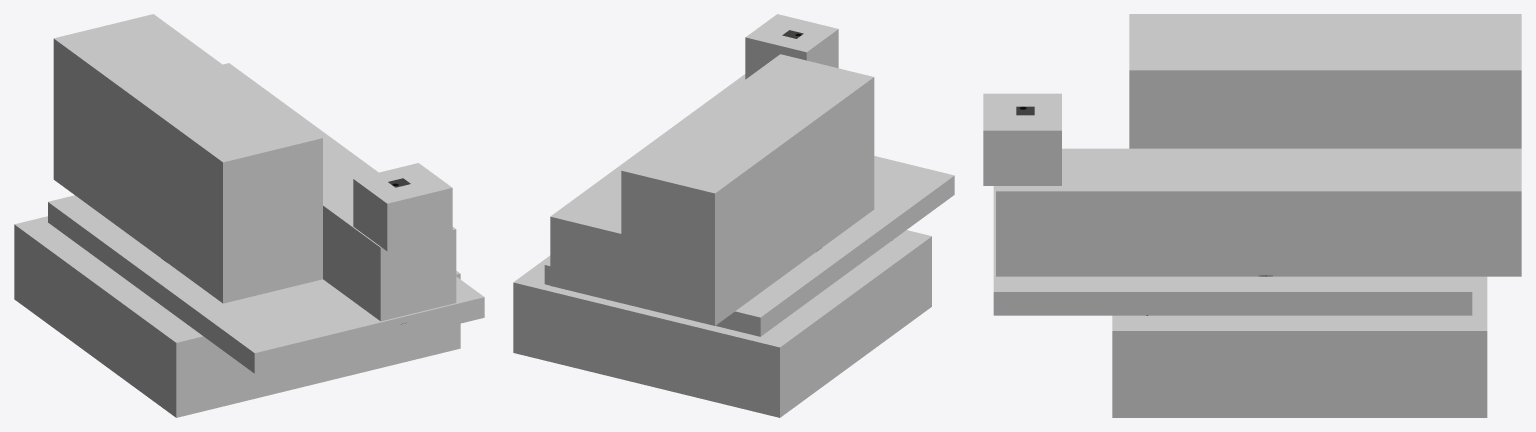
The model's file is curiosity.glb.
The picture shows the model from 3 angles, left to right: view 1: azimuth 30°, elevation 25°; view 2: azimuth 150°, elevation 25°; view 3: azimuth 270°, elevation 25°; orthographic projection. The views are drawn at different scales.
Visible parts, largest first — view 1: COL_curiosity; view 2: COL_curiosity; view 3: COL_curiosity.
Boxes of the visible parts, <box> form: COL_curiosity: <box>14,14,484,417</box>; COL_curiosity: <box>513,14,954,417</box>; COL_curiosity: <box>983,14,1521,417</box>.
Size of the model in its own units: 2.78 by 2.22 by 3.95.
Materials: 9 (8 with a texture image).
